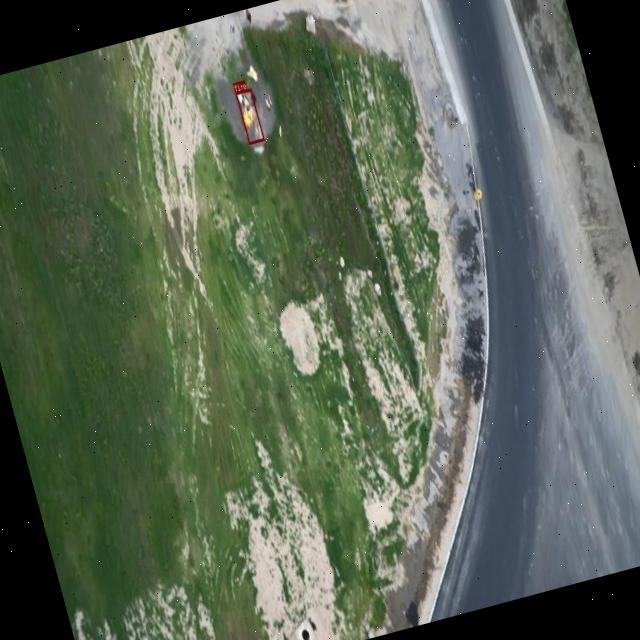fire: (234, 88, 264, 144)
